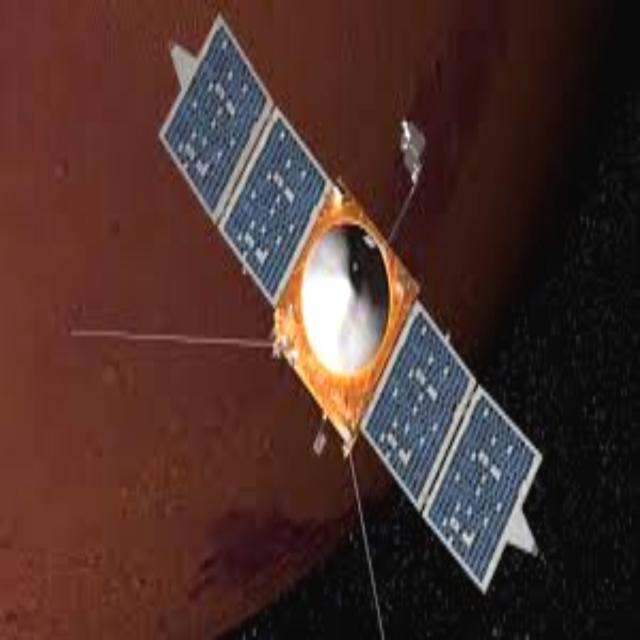satellite: (78, 0, 593, 640)
